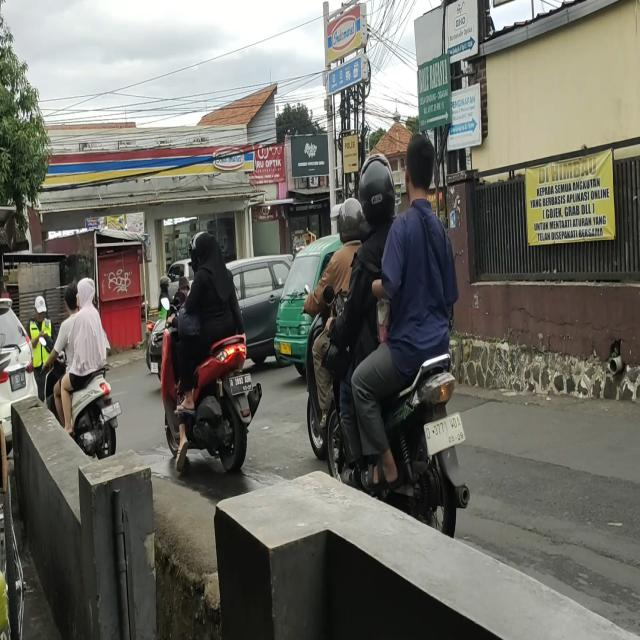helmet: (359, 159, 396, 221), (338, 199, 363, 240)
no-helmet: (404, 134, 434, 197), (196, 236, 218, 270), (77, 278, 93, 307), (62, 282, 77, 312)
